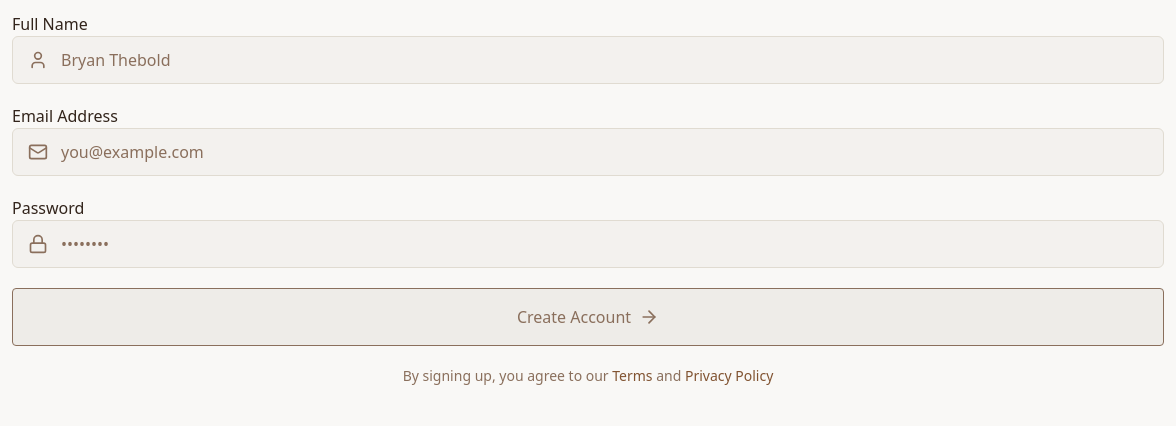
Test: SignUpForm › shows error for name shorter than 2 characters
The image size is (1176, 426).
Type "A" into the field labelled "Full Name" at (588, 60), box [12, 36, 1164, 84]
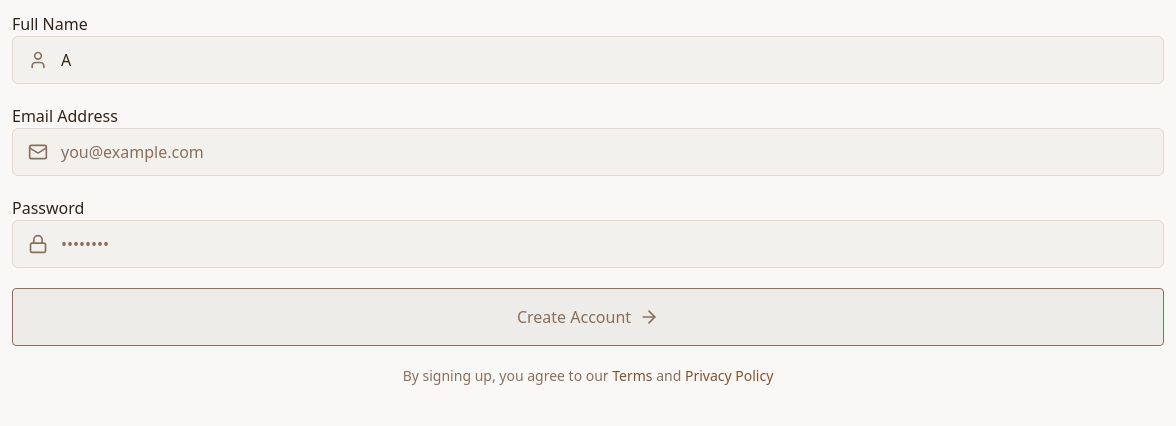
Type "dan@test.com" into the field labelled "Email Address" at (588, 152), box [12, 128, 1164, 176]
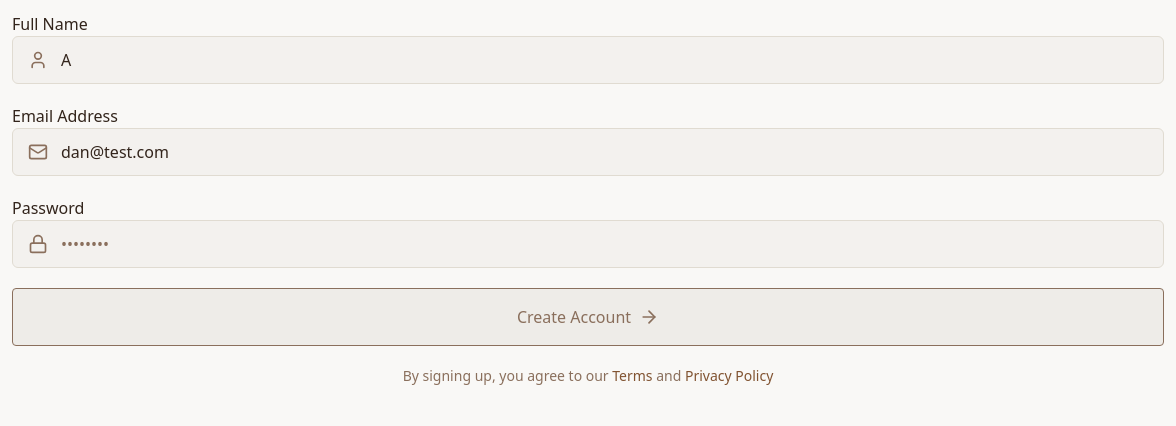
Type "Pass1234" into the password field labelled "Password" at (588, 244), box [12, 220, 1164, 268]
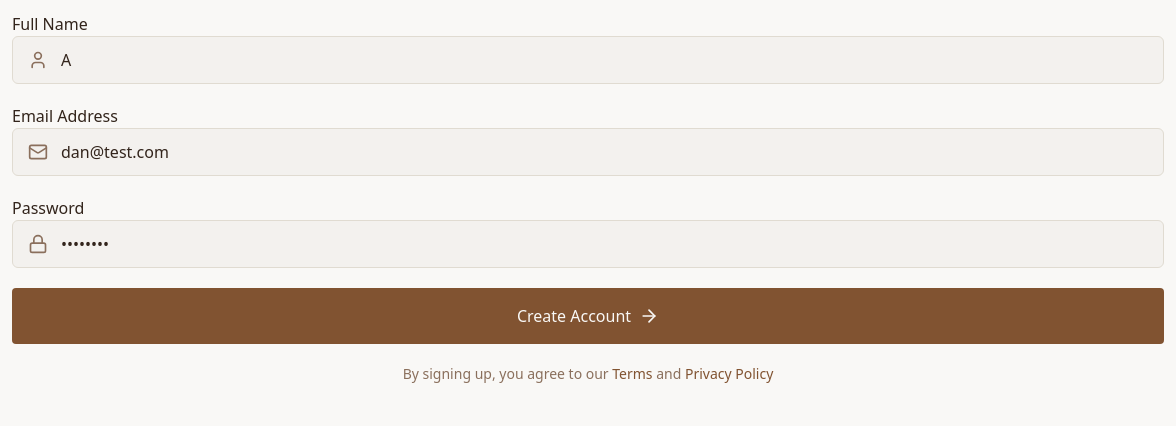
Submit the form labelled "Full Name"
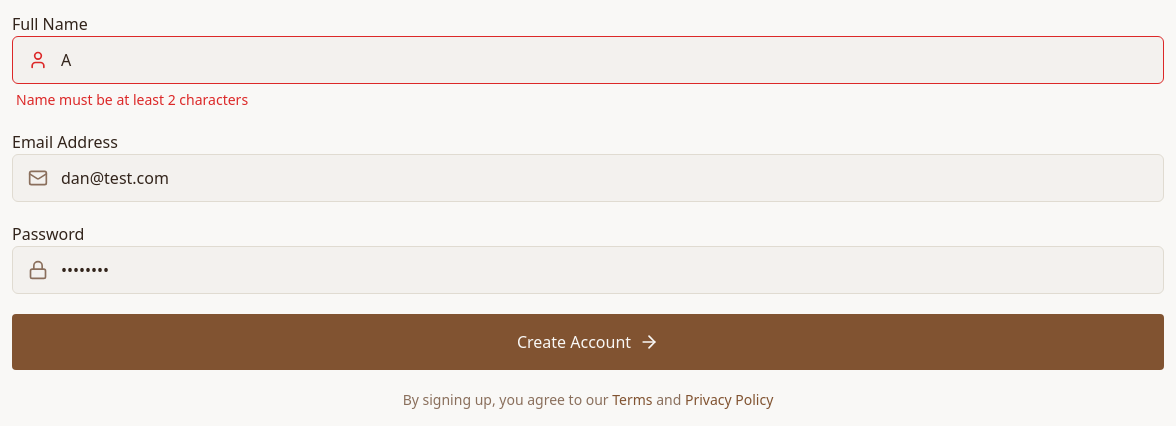
expect the text "Name must be at least 2 characters" is shown: met, box [16, 90, 248, 109]
